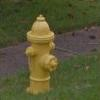Hydrant: (21, 6, 63, 97)
